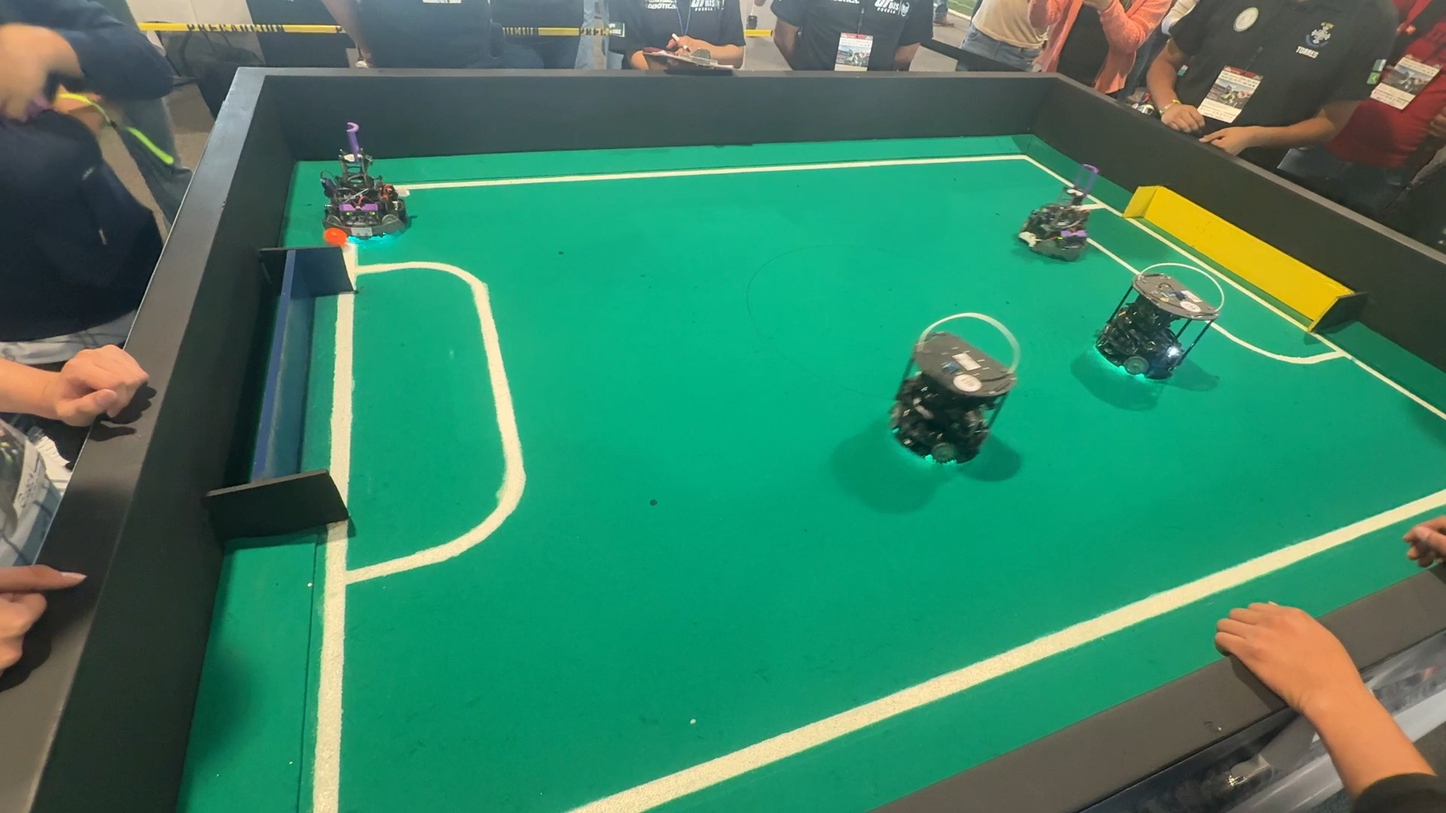Robot: (863, 303, 1039, 494), (1077, 261, 1240, 405), (312, 145, 418, 242), (1012, 185, 1110, 267)
